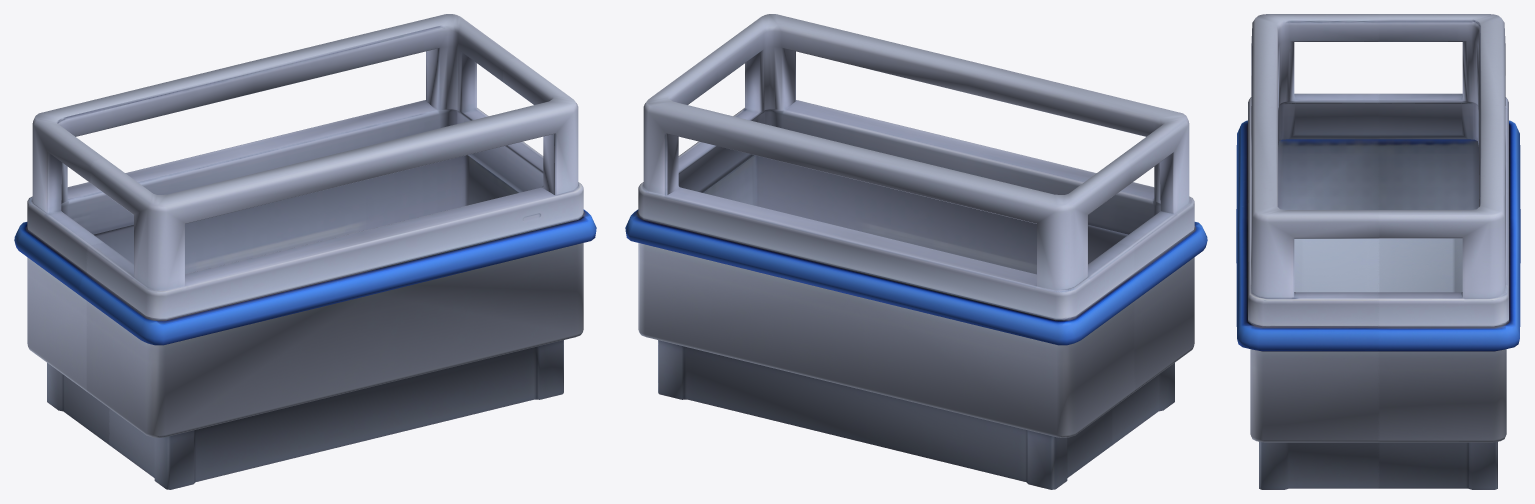
Rendered from 冰柜002（带材质）.fbx.
The picture shows the model from 3 angles, left to right: view 1: azimuth 30°, elevation 25°; view 2: azimuth 150°, elevation 25°; view 3: azimuth 270°, elevation 25°; orthographic projection. The views are drawn at different scales.
Visible parts, largest first — view 1: tripo_node_5f5def2a; view 2: tripo_node_5f5def2a; view 3: tripo_node_5f5def2a.
Boxes of the visible parts, x1,y1,x2,y2 form: tripo_node_5f5def2a: [14, 14, 596, 489]; tripo_node_5f5def2a: [625, 14, 1207, 489]; tripo_node_5f5def2a: [1236, 14, 1520, 489].
Size of the model in its own units: 1 by 0.6056 by 0.5563.
